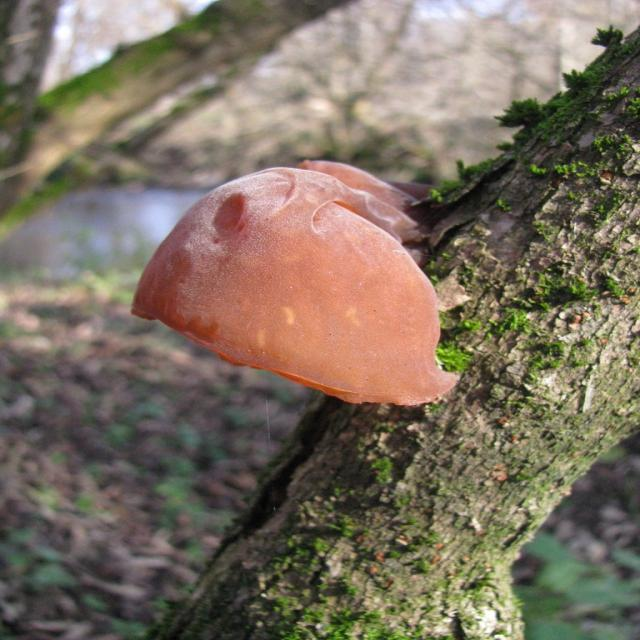Matang: (113, 147, 482, 402)
